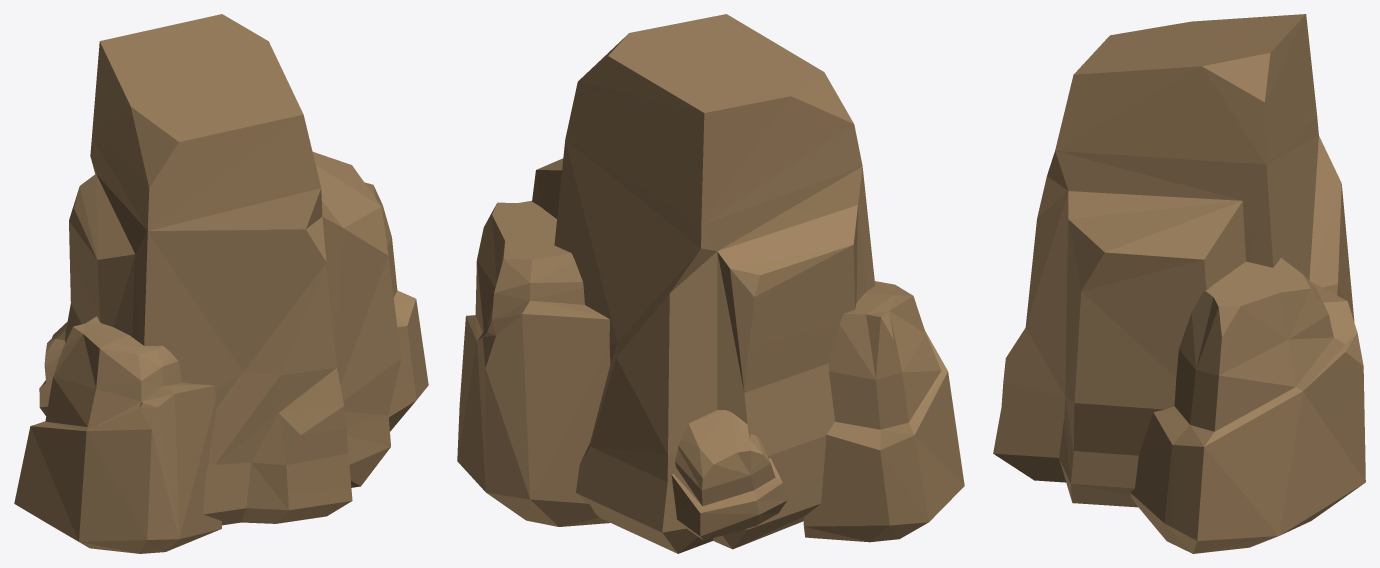
The model's file is SM_Env_RockPile_01.gltf.
3 views of the same model, side by side, from view 1: azimuth 30°, elevation 25°; view 2: azimuth 150°, elevation 25°; view 3: azimuth 270°, elevation 25° (orthographic). The views are drawn at different scales.
Visible parts, largest first — view 1: SM_Env_RockPile_01; view 2: SM_Env_RockPile_01; view 3: SM_Env_RockPile_01.
Boxes of the visible parts, bbox=[...] form: SM_Env_RockPile_01: bbox=[14, 14, 428, 553]; SM_Env_RockPile_01: bbox=[457, 14, 964, 553]; SM_Env_RockPile_01: bbox=[993, 14, 1365, 553].
Bounding box in the file's own units: 6.33 × 6.17 × 4.66.
1 material, 1 textured.
